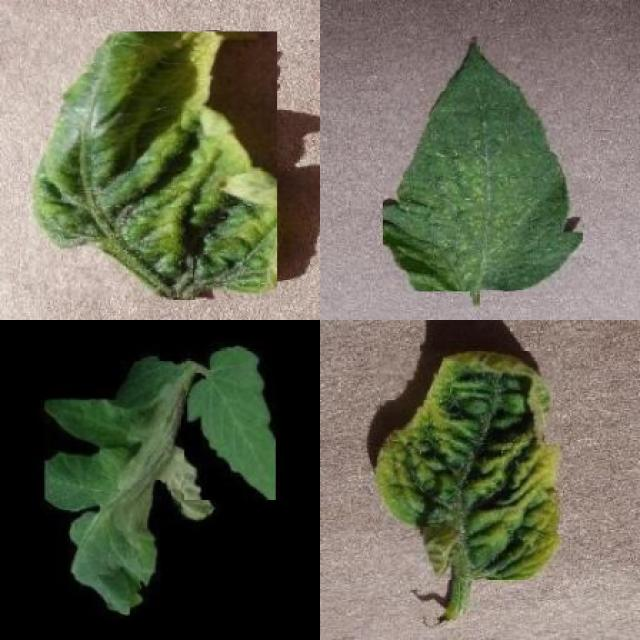Healthy: (184, 346, 276, 500)
Late Blight: (45, 360, 214, 614)
Spider Mites: (383, 38, 583, 292)
Yellow Leaf Curl Virus: (29, 31, 277, 300), (374, 350, 562, 580)
